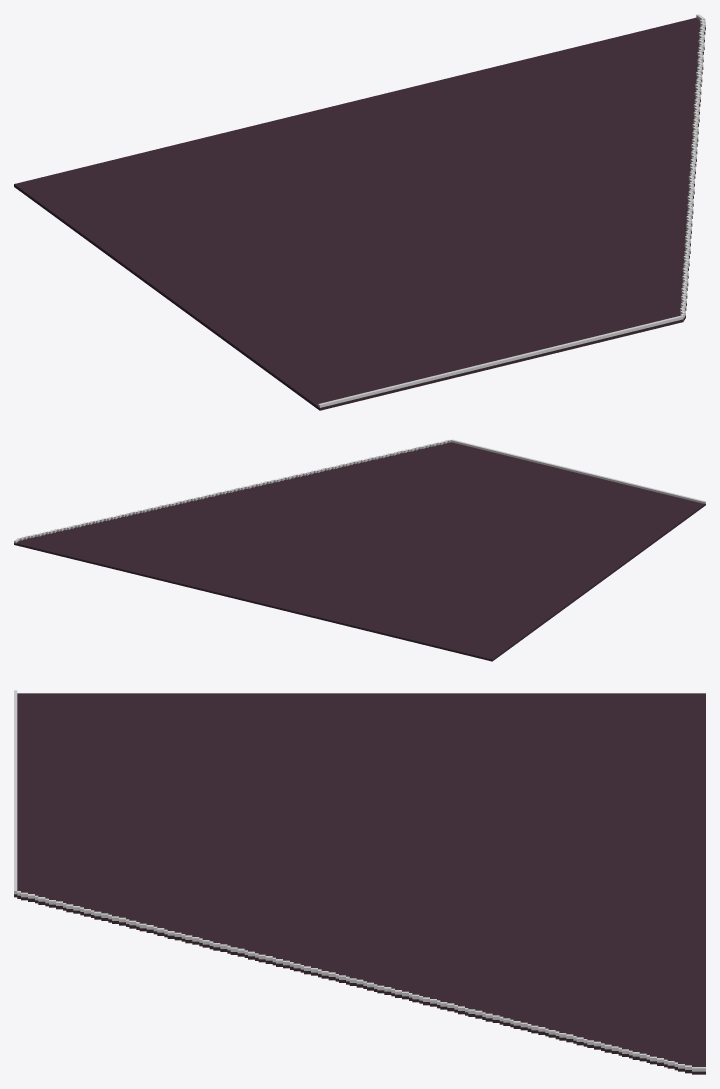
Rendered from Mapa-3.obj.
3 renders of one model, top to bottom at view 1: azimuth 30°, elevation 25°; view 2: azimuth 150°, elevation 25°; view 3: azimuth 270°, elevation 25°, orthographic. The views are drawn at different scales.
Size of the model in its own units: 25.6 by 0.2 by 19.8.
Materials: 1 (1 with a texture image).
